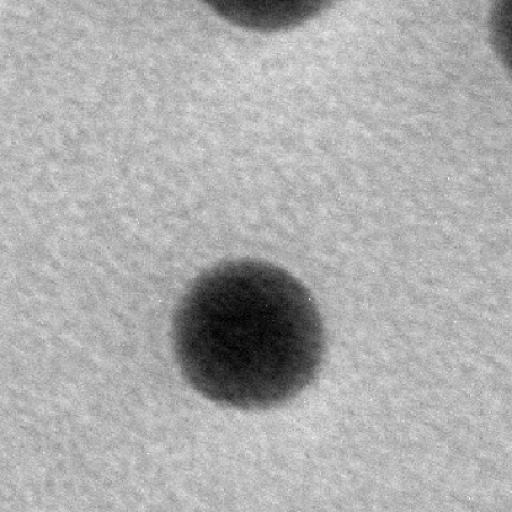Nanoparticles: (165, 264, 342, 402), (198, 3, 334, 32), (481, 2, 512, 82)
